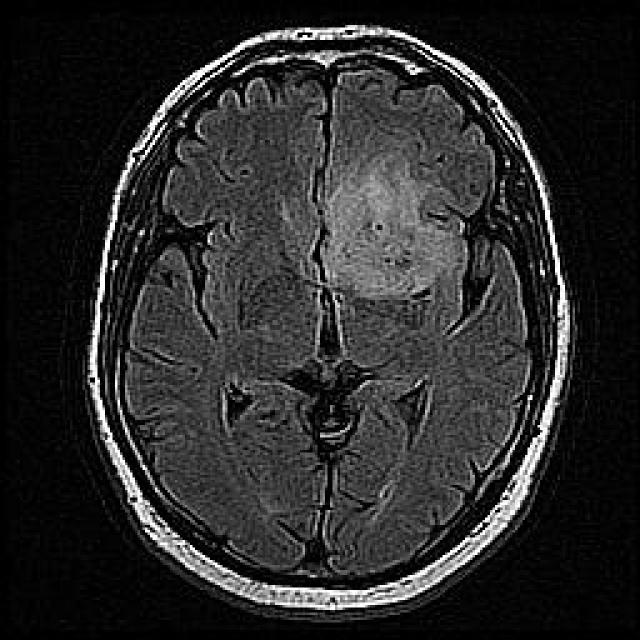Tumor-Cell: (297, 128, 475, 308)
